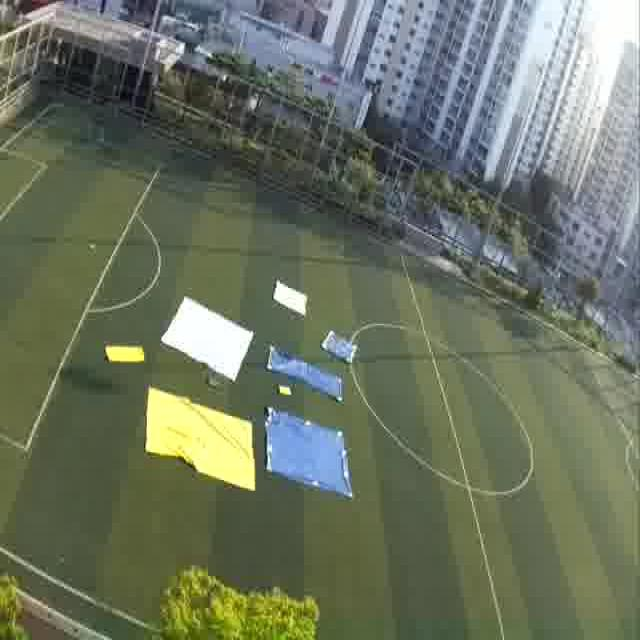danger: (265, 407, 361, 501), (268, 344, 324, 381), (319, 330, 364, 364)
safety: (160, 290, 261, 384), (265, 272, 312, 323)
warning: (138, 385, 258, 504), (101, 337, 153, 374)
